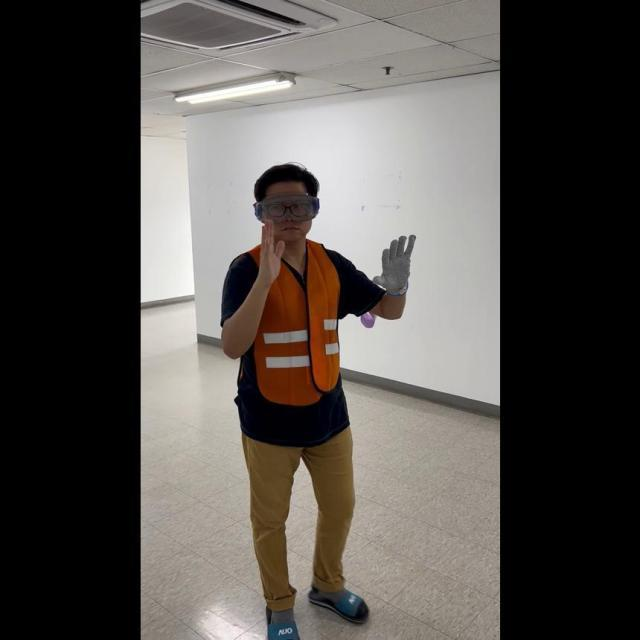bare_hand: (250, 217, 285, 282)
gloved_hand: (370, 231, 416, 295)
